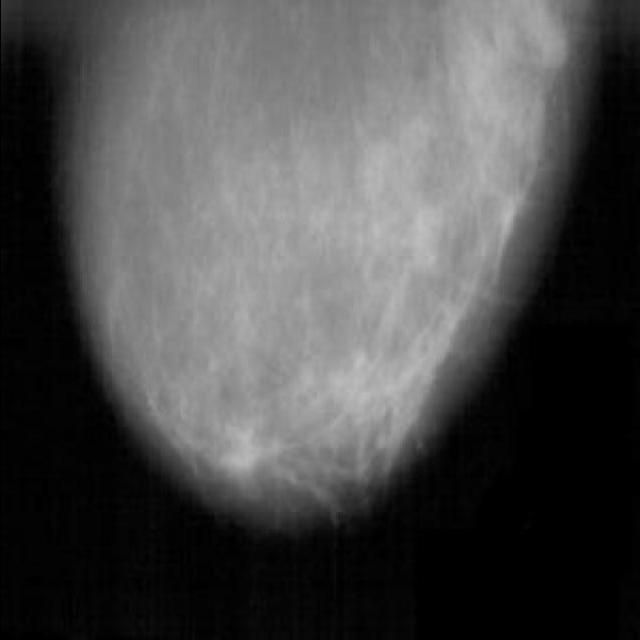tumor: (186, 352, 442, 489)
